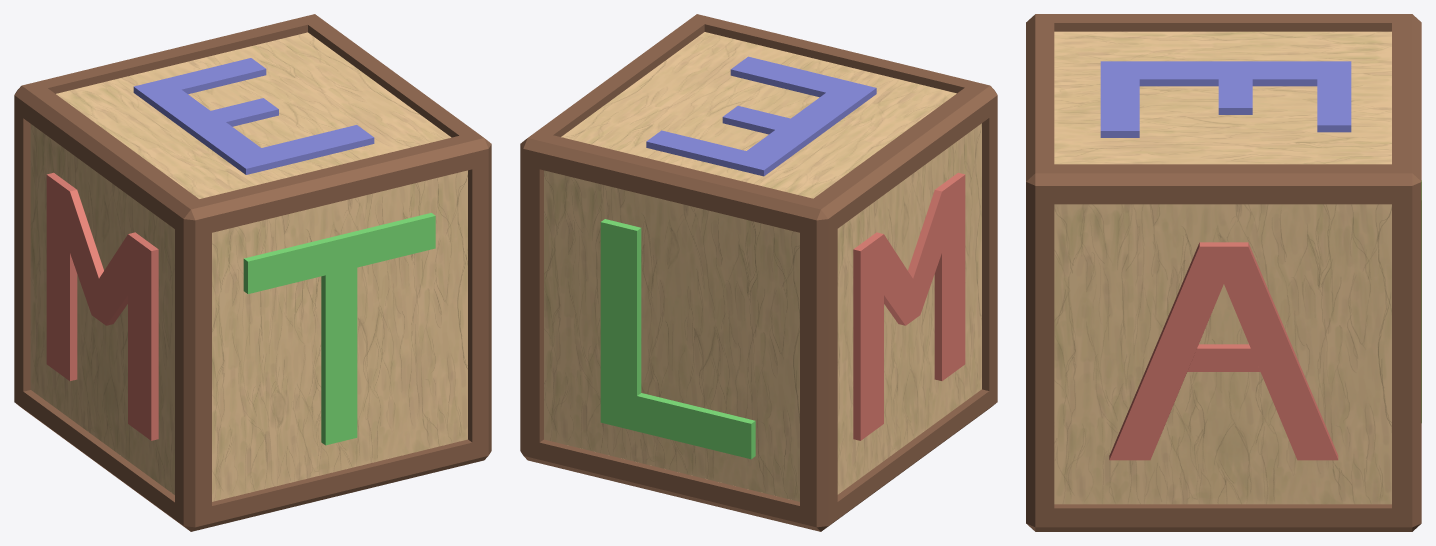
The model's file is letterbox.gltf.
3 renders of one model, left to right at view 1: azimuth 30°, elevation 25°; view 2: azimuth 150°, elevation 25°; view 3: azimuth 270°, elevation 25°, orthographic. The views are drawn at different scales.
Visible parts, largest first — view 1: Cube (×5); view 2: Cube (×5); view 3: Cube (×4).
Part boxes in pixels (left/top/right/bottom): Cube (×5): left=14, top=14, right=491, bottom=531; Cube (×5): left=520, top=14, right=997, bottom=531; Cube (×4): left=1026, top=14, right=1421, bottom=531.
Size of the model in its own units: 2.1 by 2.1 by 2.1.
Materials: 5 (1 with a texture image).
